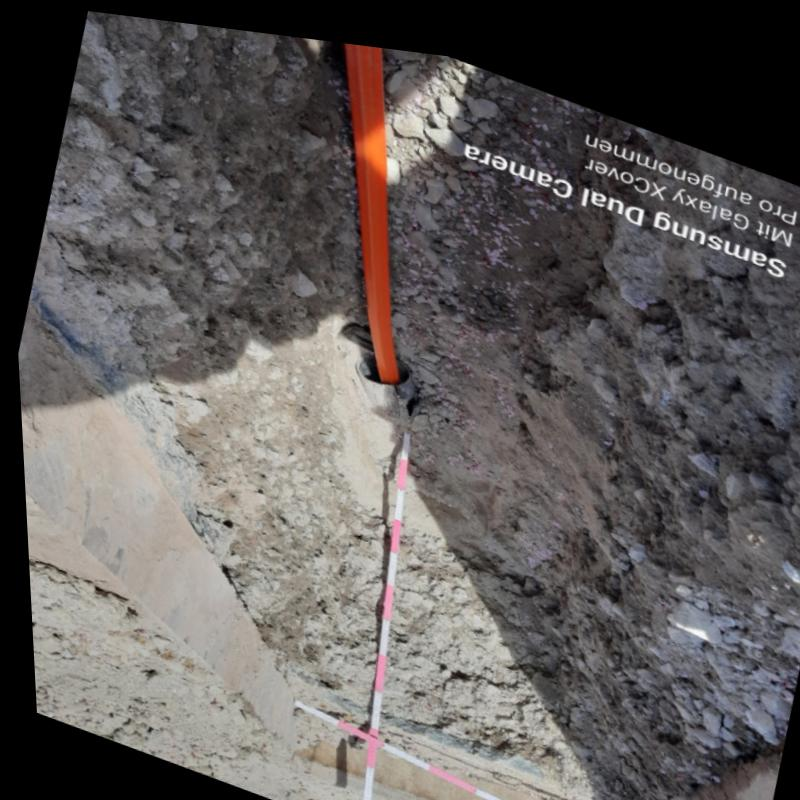Orang-Speednetrohrchen: (347, 34, 394, 372)
